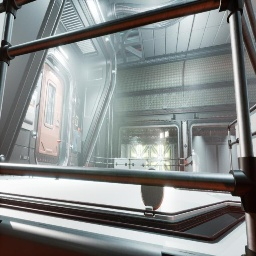0: (140, 166, 165, 211)
EmergencyPhone ,: (75, 113, 78, 127)
FireAlarm ,: (184, 159, 187, 165), (78, 128, 81, 132)
SafetySwitchPanel ,: (21, 90, 39, 132)
